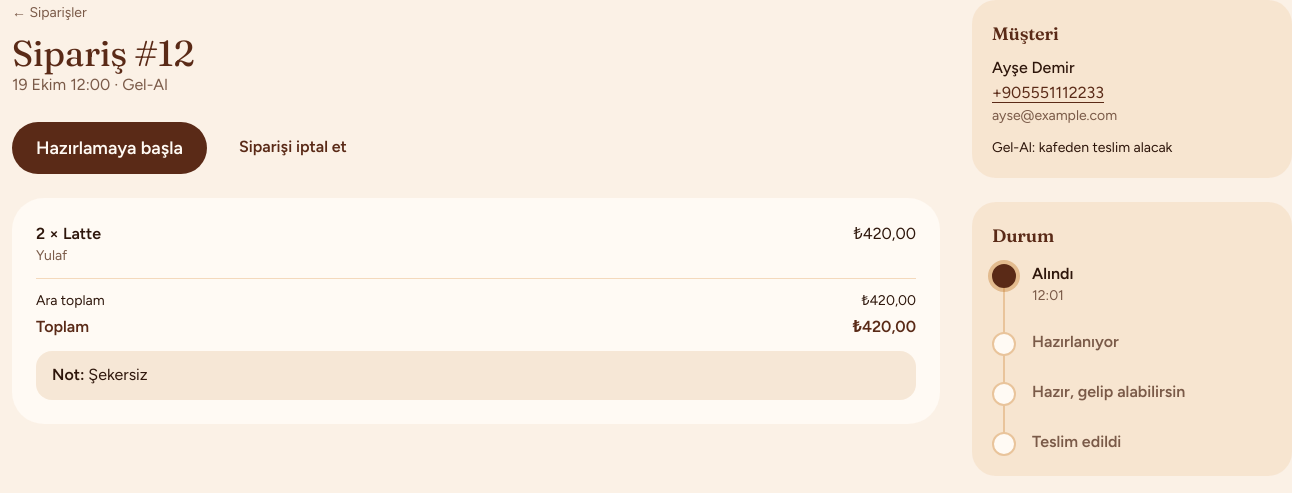
Test: AdminOrderDetailPage › starts preparing and shows the next action
The width and height of the screenshot is (1292, 493).
Expected: the text "Şekersiz" is shown, left=88, top=365, right=148, bottom=384
Click the button "Hazırlamaya başla". click: click(110, 148)
box: left=12, top=122, right=207, bottom=174
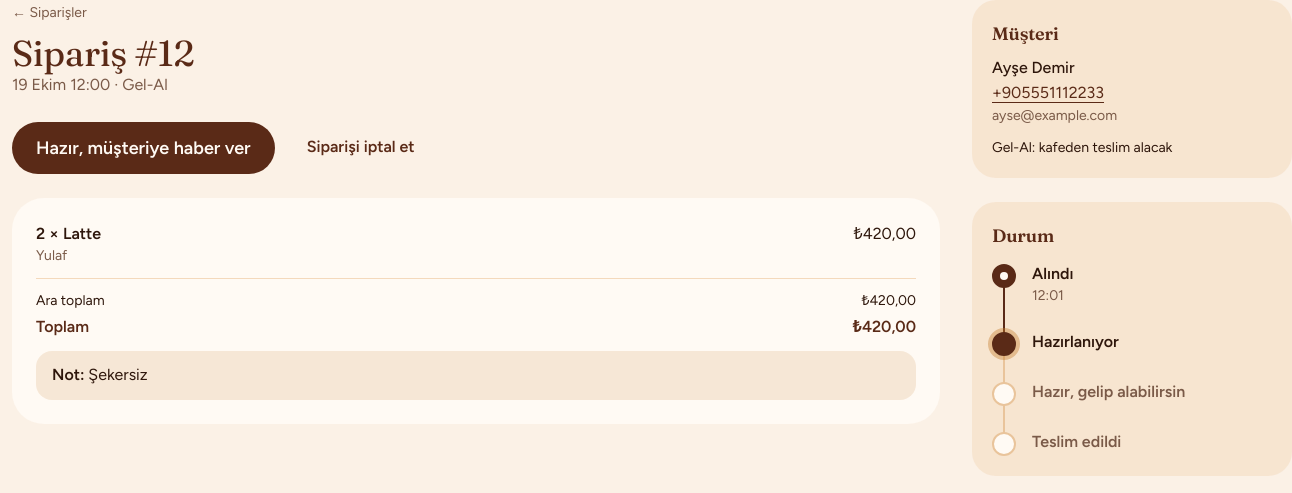
Expected: the button "Hazır, müşteriye haber ver" is shown, left=12, top=122, right=275, bottom=174
